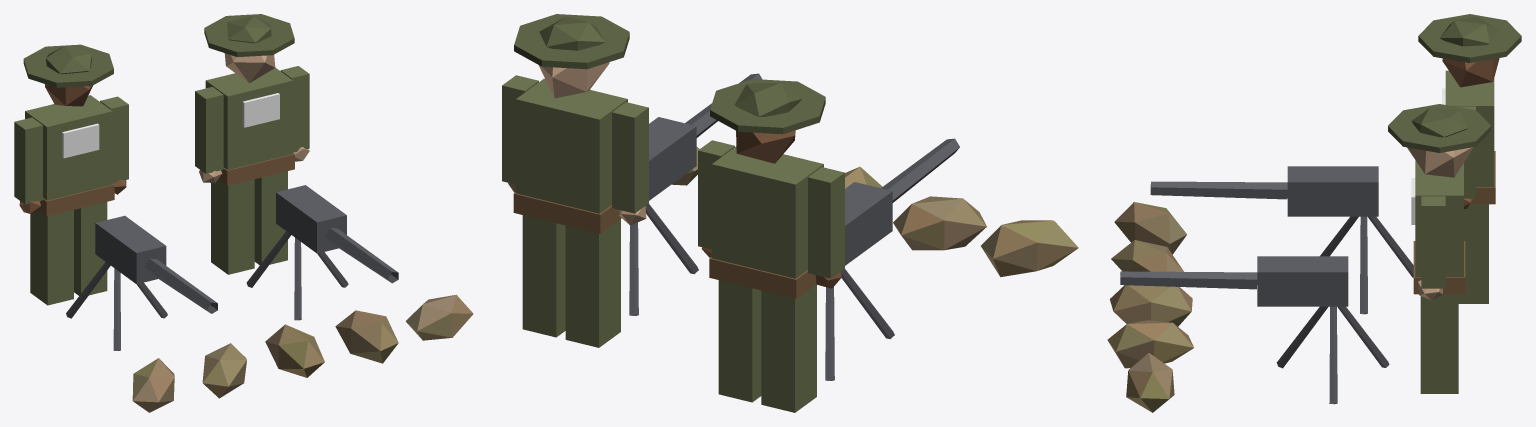
File: Machine Gun.glb
The picture shows the model from 3 angles, left to right: view 1: azimuth 30°, elevation 25°; view 2: azimuth 150°, elevation 25°; view 3: azimuth 270°, elevation 25°; orthographic projection. The views are drawn at different scales.
Parts seen in each view (by area): view 1: Units_Machine Gun; view 2: Units_Machine Gun; view 3: Units_Machine Gun.
Part boxes in pixels (bbox=[...]): Units_Machine Gun: bbox=[14, 14, 473, 412]; Units_Machine Gun: bbox=[502, 14, 1078, 412]; Units_Machine Gun: bbox=[1107, 14, 1521, 412].
Bounding box in the file's own units: 0.2911 × 0.1943 × 0.2726.
